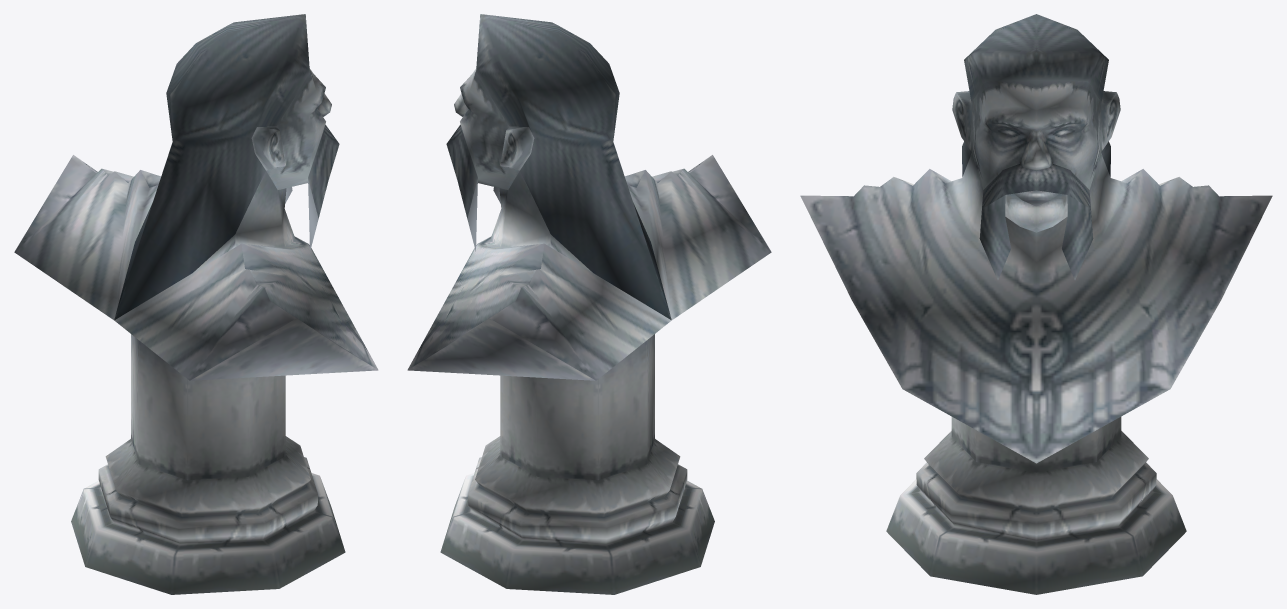
Rendered from busthm02.obj.
3 renders of one model, left to right at view 1: azimuth 30°, elevation 25°; view 2: azimuth 150°, elevation 25°; view 3: azimuth 270°, elevation 25°, orthographic. The views are drawn at different scales.
Parts seen in each view (by area): view 1: busthm02.m2; view 2: busthm02.m2; view 3: busthm02.m2.
Boxes of the visible parts, x1,y1,x2,y2 form: busthm02.m2: (14,14,378,594); busthm02.m2: (407,14,771,594); busthm02.m2: (800,14,1272,594).
Size of the model in its own units: 0.4053 by 0.72 by 0.5842.
Materials: 1 (1 with a texture image).
